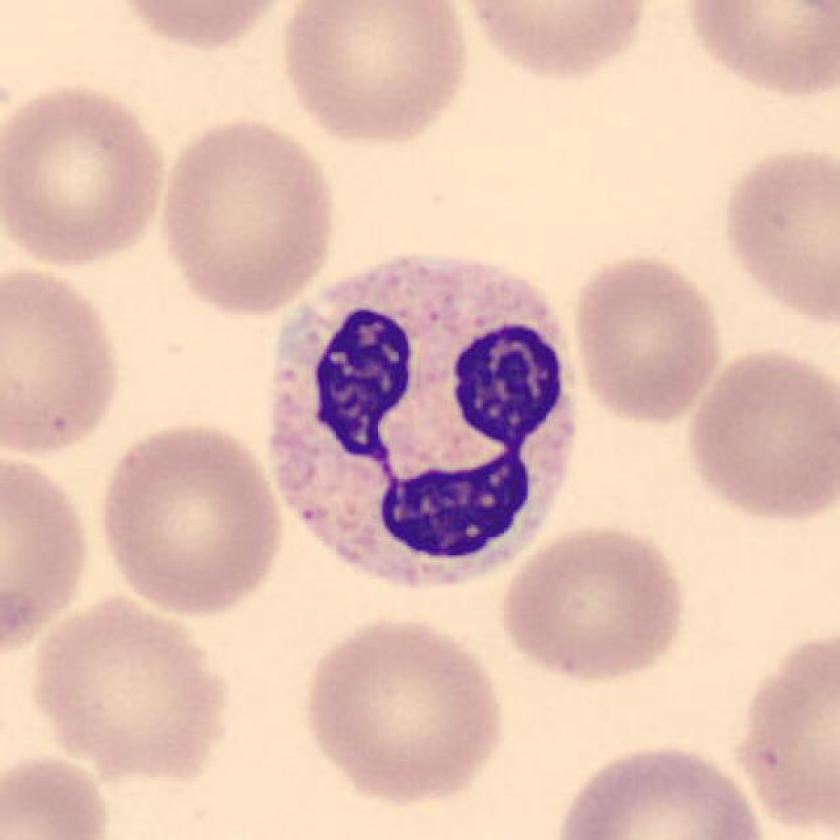neutrophil: (269, 259, 581, 587)
